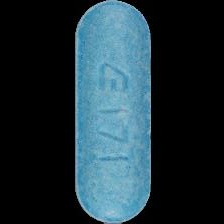0185-0171: (0, 0, 224, 224)
